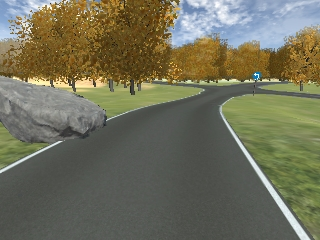left: (252, 71, 259, 79)
